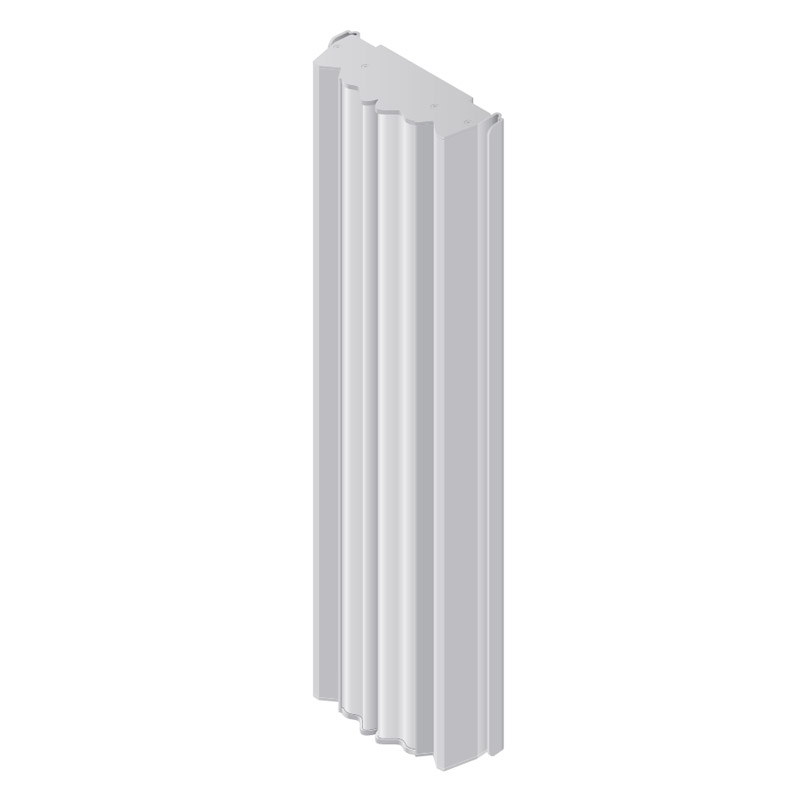sa: (282, 1, 526, 776)
